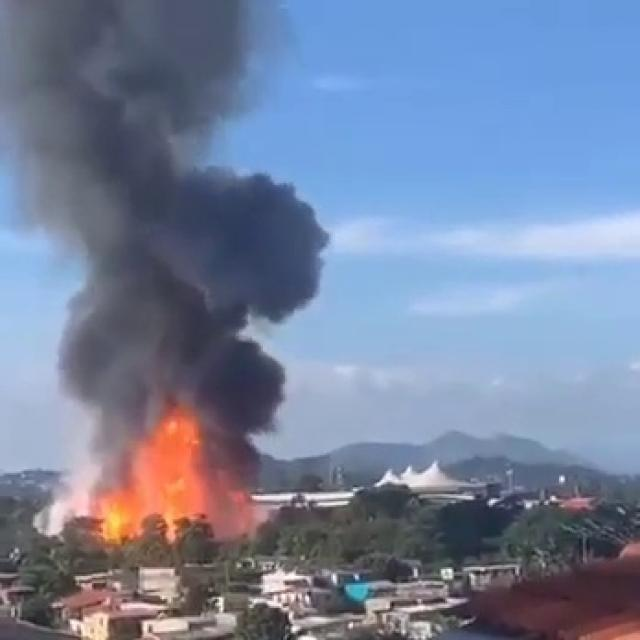Fire: (57, 407, 239, 537)
Smoke: (31, 144, 132, 278), (0, 0, 86, 106), (35, 416, 110, 536), (94, 301, 169, 404), (155, 227, 218, 316), (76, 24, 130, 100), (116, 90, 178, 140), (172, 116, 204, 184)
